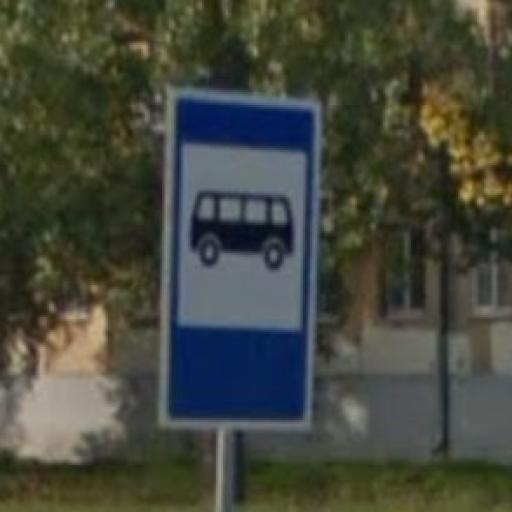traffic_sign: (160, 88, 323, 431)
